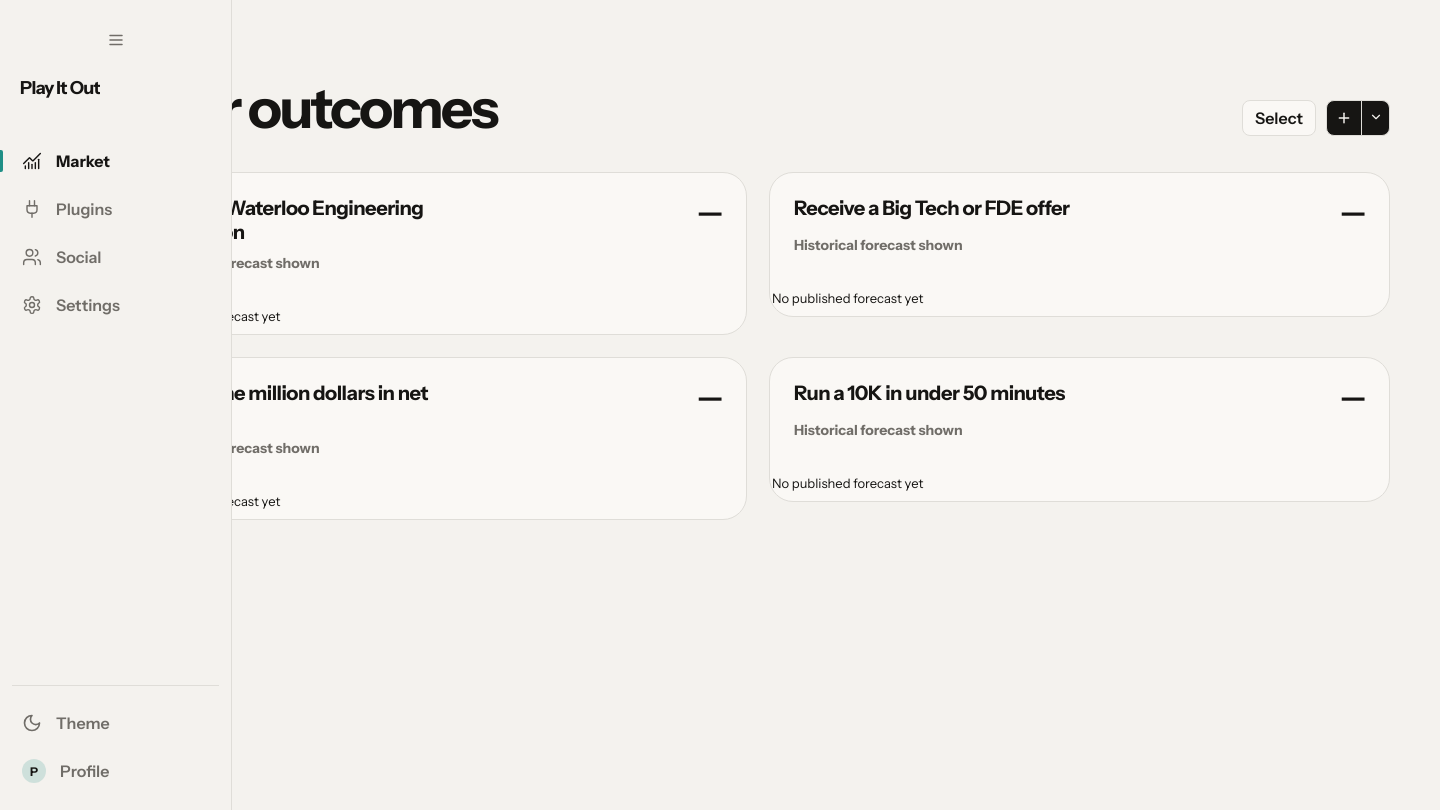
Test case: goal creation is reachable from the populated markets catalog
The image size is (1440, 810).
Click the button named "Create". click: (1376, 118)
box: top-left (1362, 100), bottom-right (1390, 136)
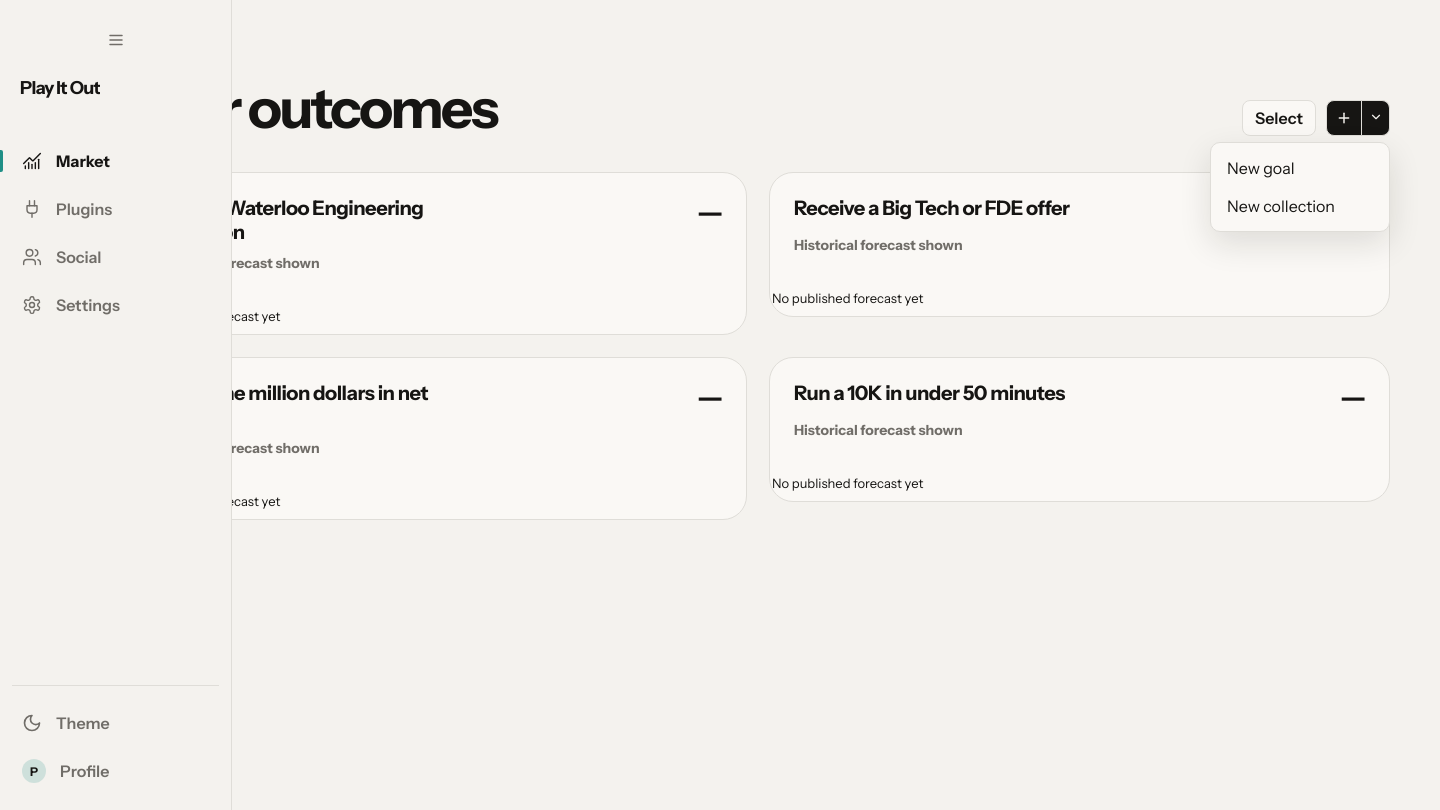
Click the menu item "New goal". click: (1261, 168)
box: top-left (1227, 158), bottom-right (1294, 178)
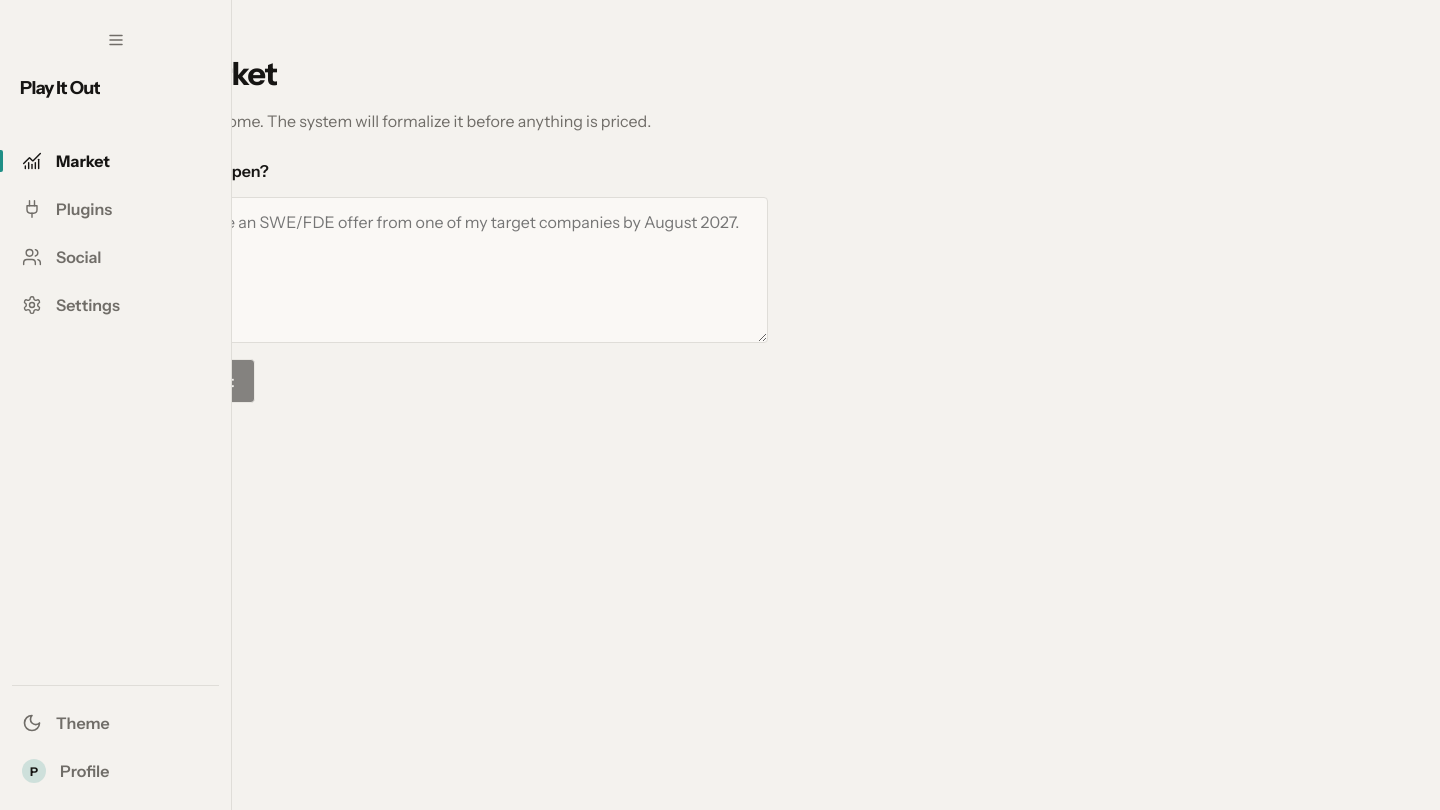
Expected: the heading "New market" is shown, top-left (104, 54), bottom-right (277, 93)
